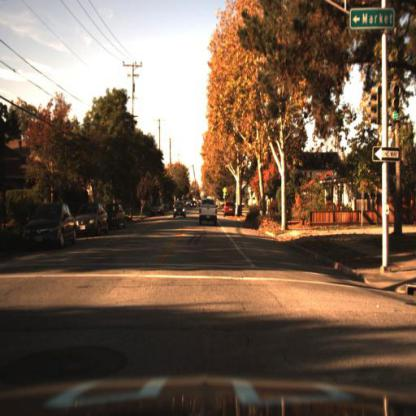car: (24, 204, 79, 253), (74, 202, 109, 240), (103, 195, 127, 229), (200, 195, 219, 226), (149, 198, 165, 219), (172, 199, 188, 220), (223, 200, 237, 217), (190, 200, 198, 212)
